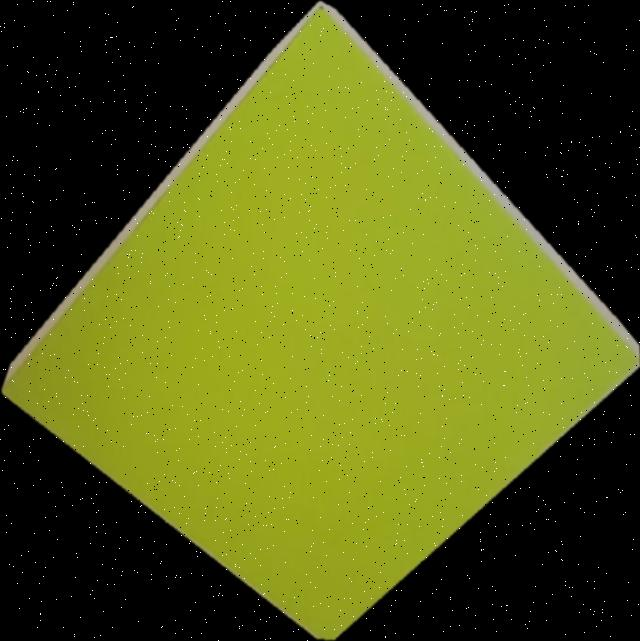Boxes: (1, 0, 640, 640)
